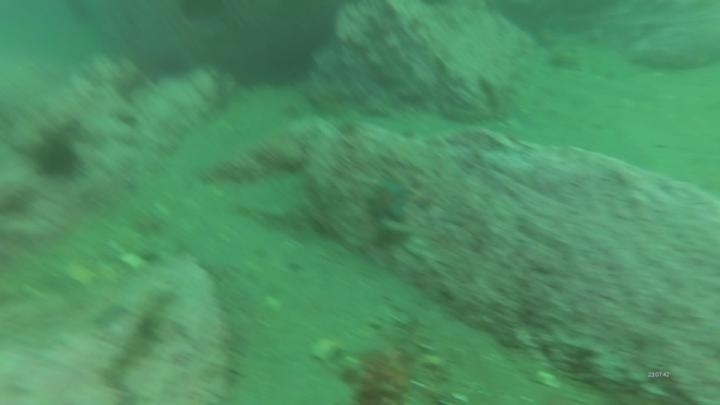echinus: (29, 133, 84, 183)
starfish: (362, 175, 415, 229)
